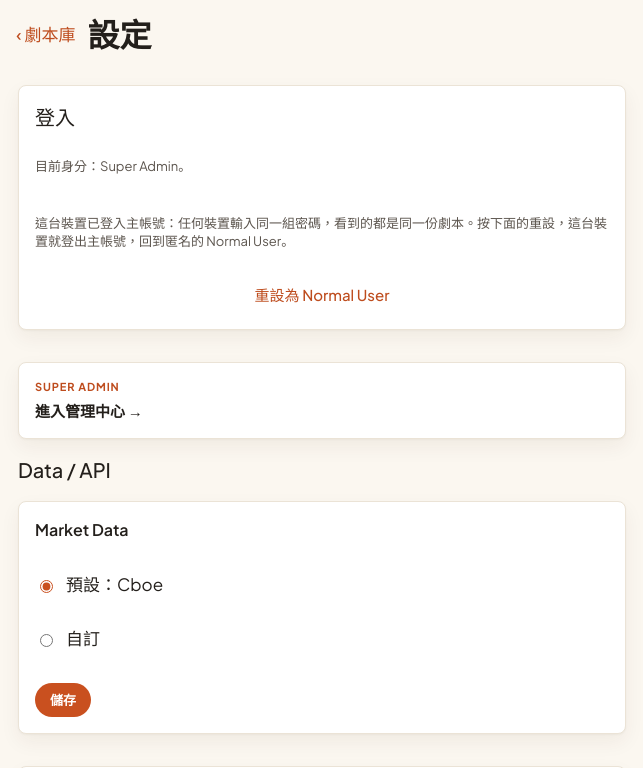
Test: 三層角色登入（AUTH-06／#313） › 重設權限後回到 Normal User，Data / API 整塊跟著消失（不必重新整理）
This screenshot has width=643, height=768.
Expected: the element "Market Data" is shown, [18,501,626,734]
Expected: the text "目前身分：Super Admin。" is shown, [35,158,191,174]
Click the button "重設為 Normal User".
click(322, 295)  # box [35,276,609,313]
(page scrolled)
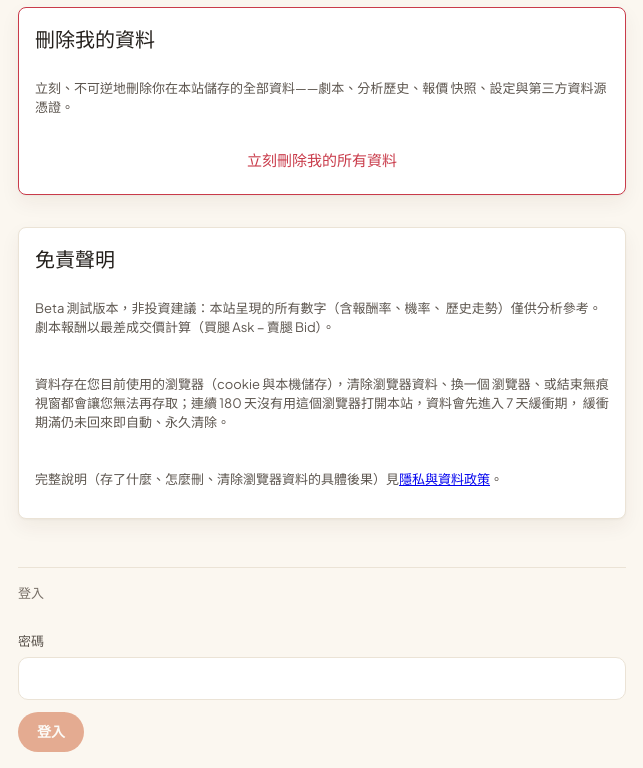
Now the password field labelled "密碼" is shown, box [18,656,626,700]
Now the heading "Market Data" is gone
